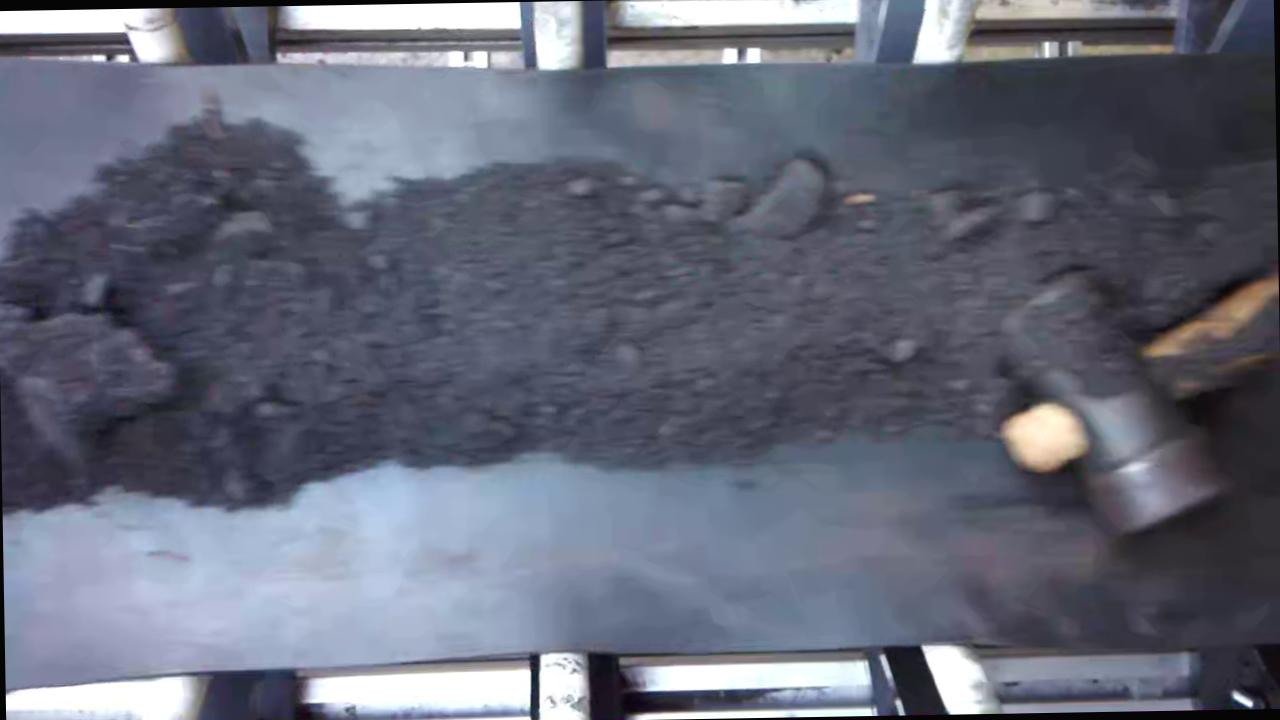conveyor: (1, 58, 1280, 655)
